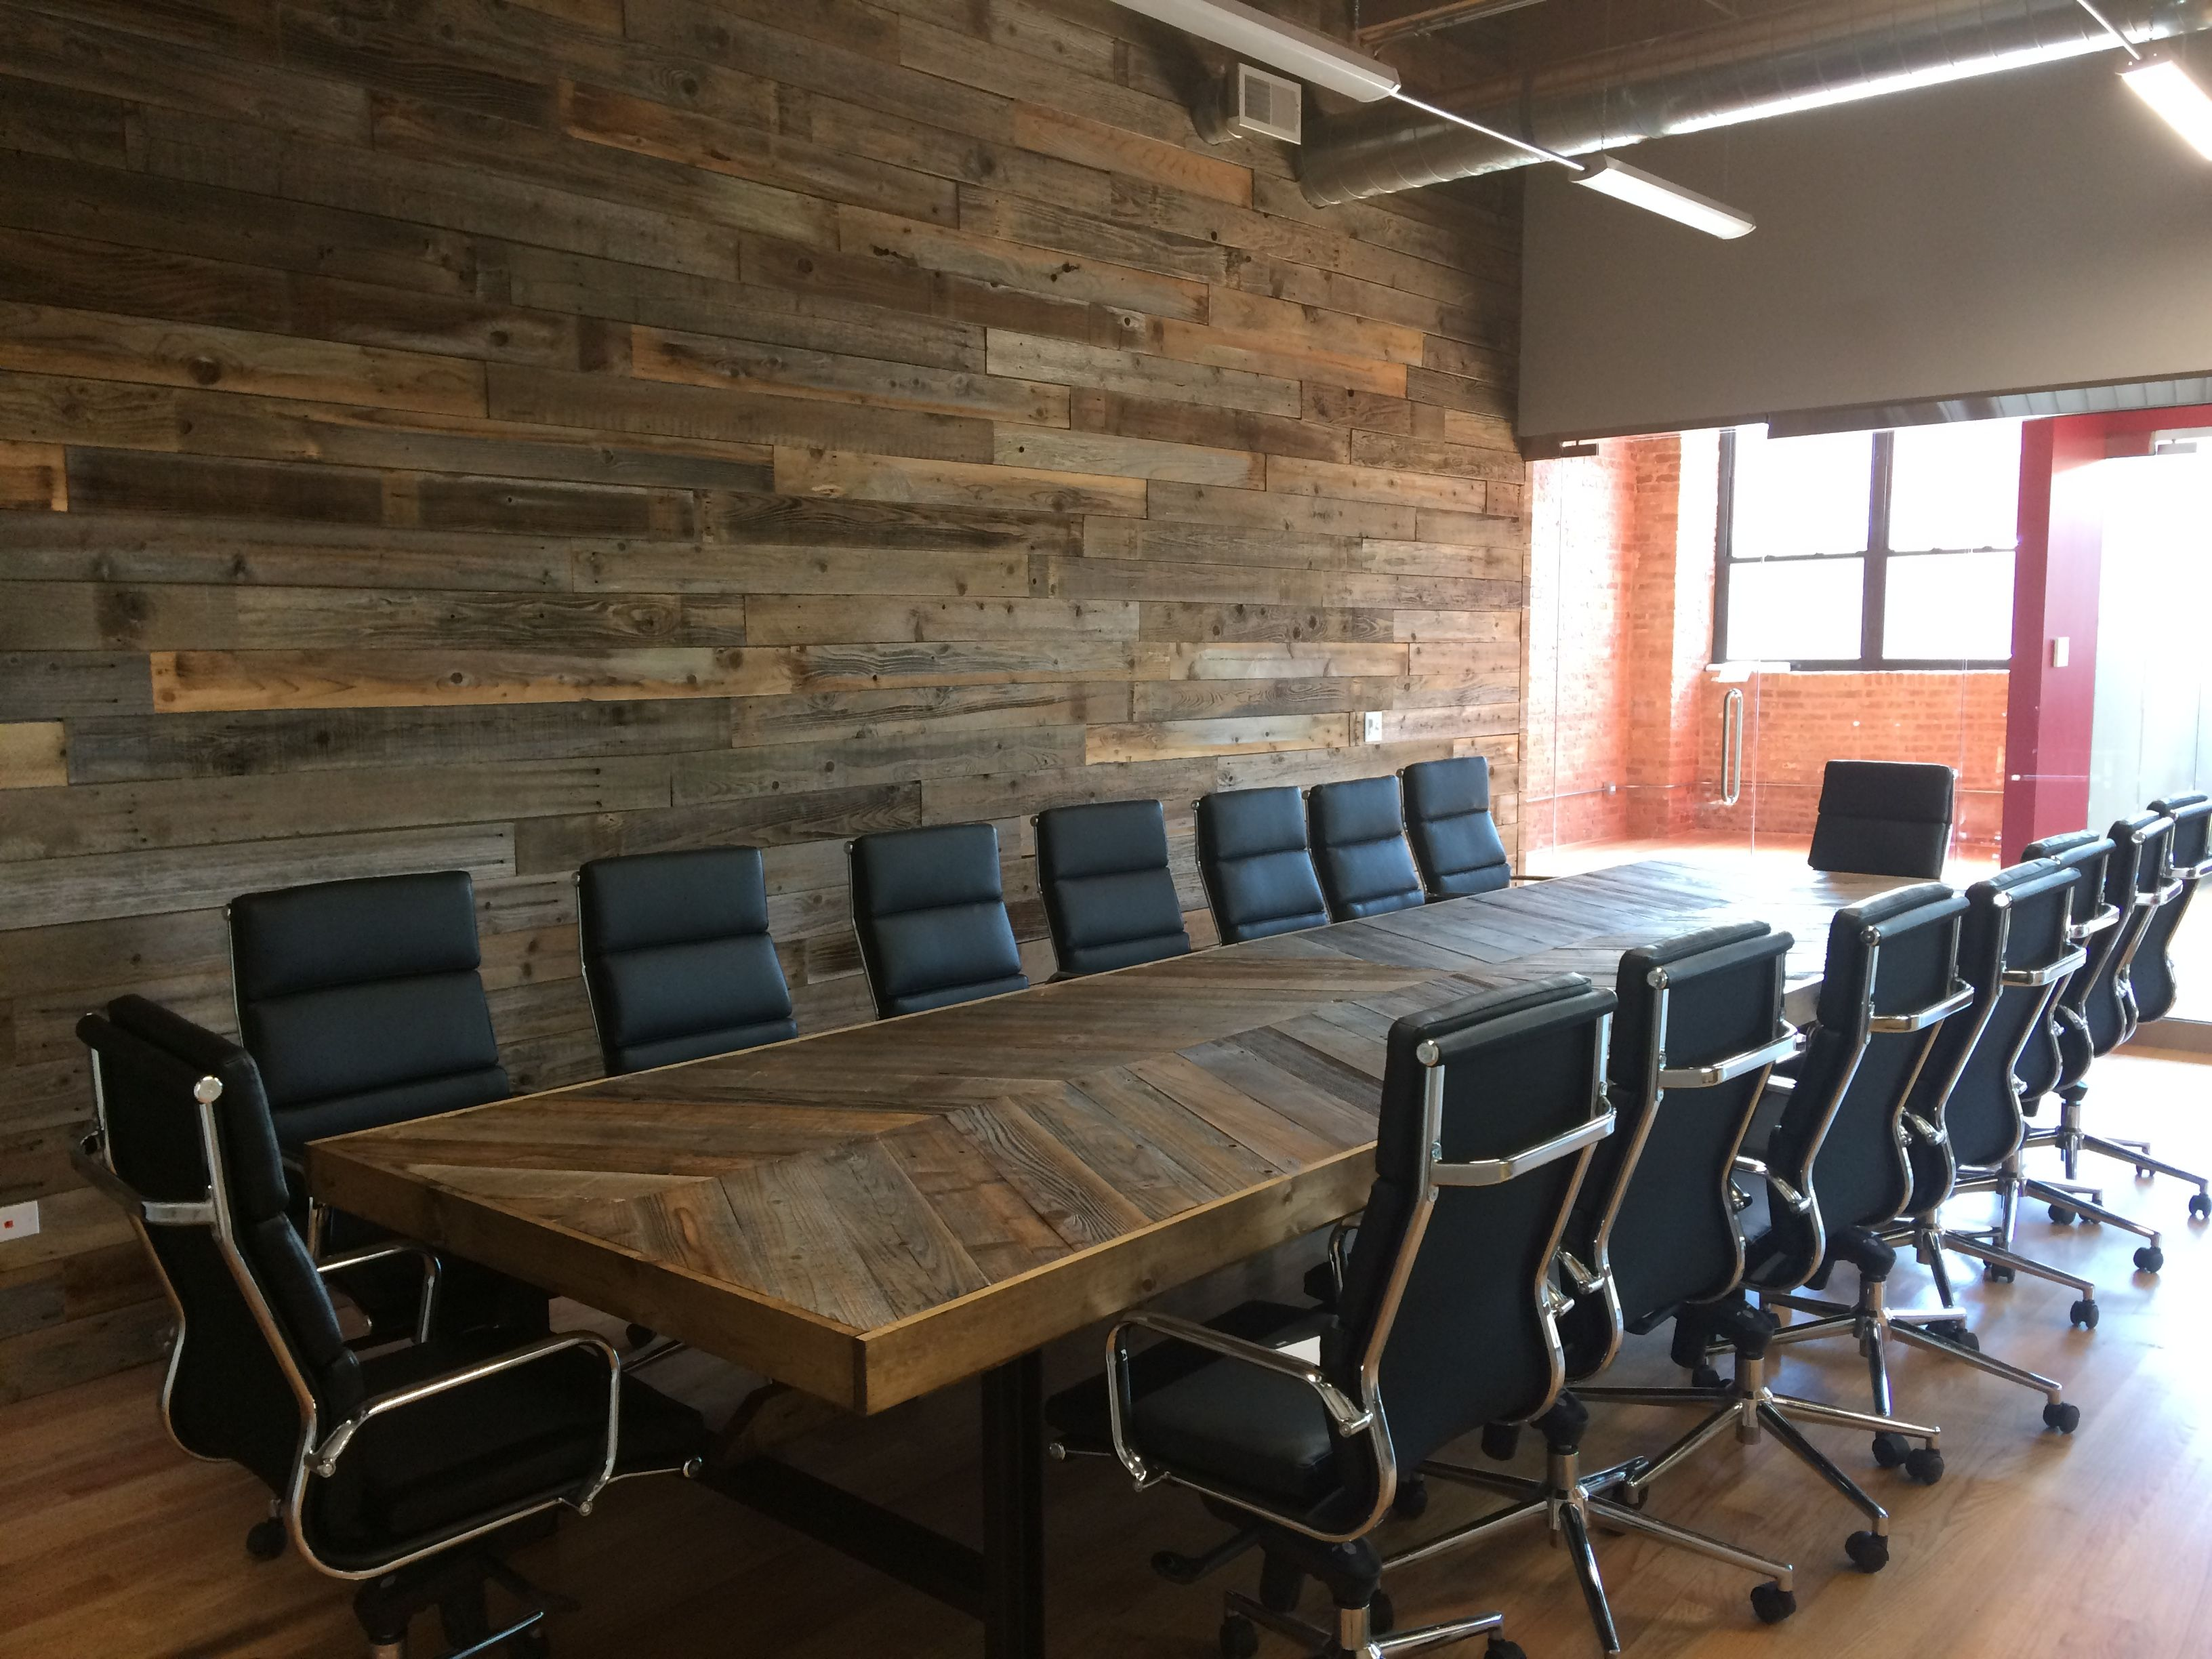conference_table: (305, 859, 2089, 1420)
